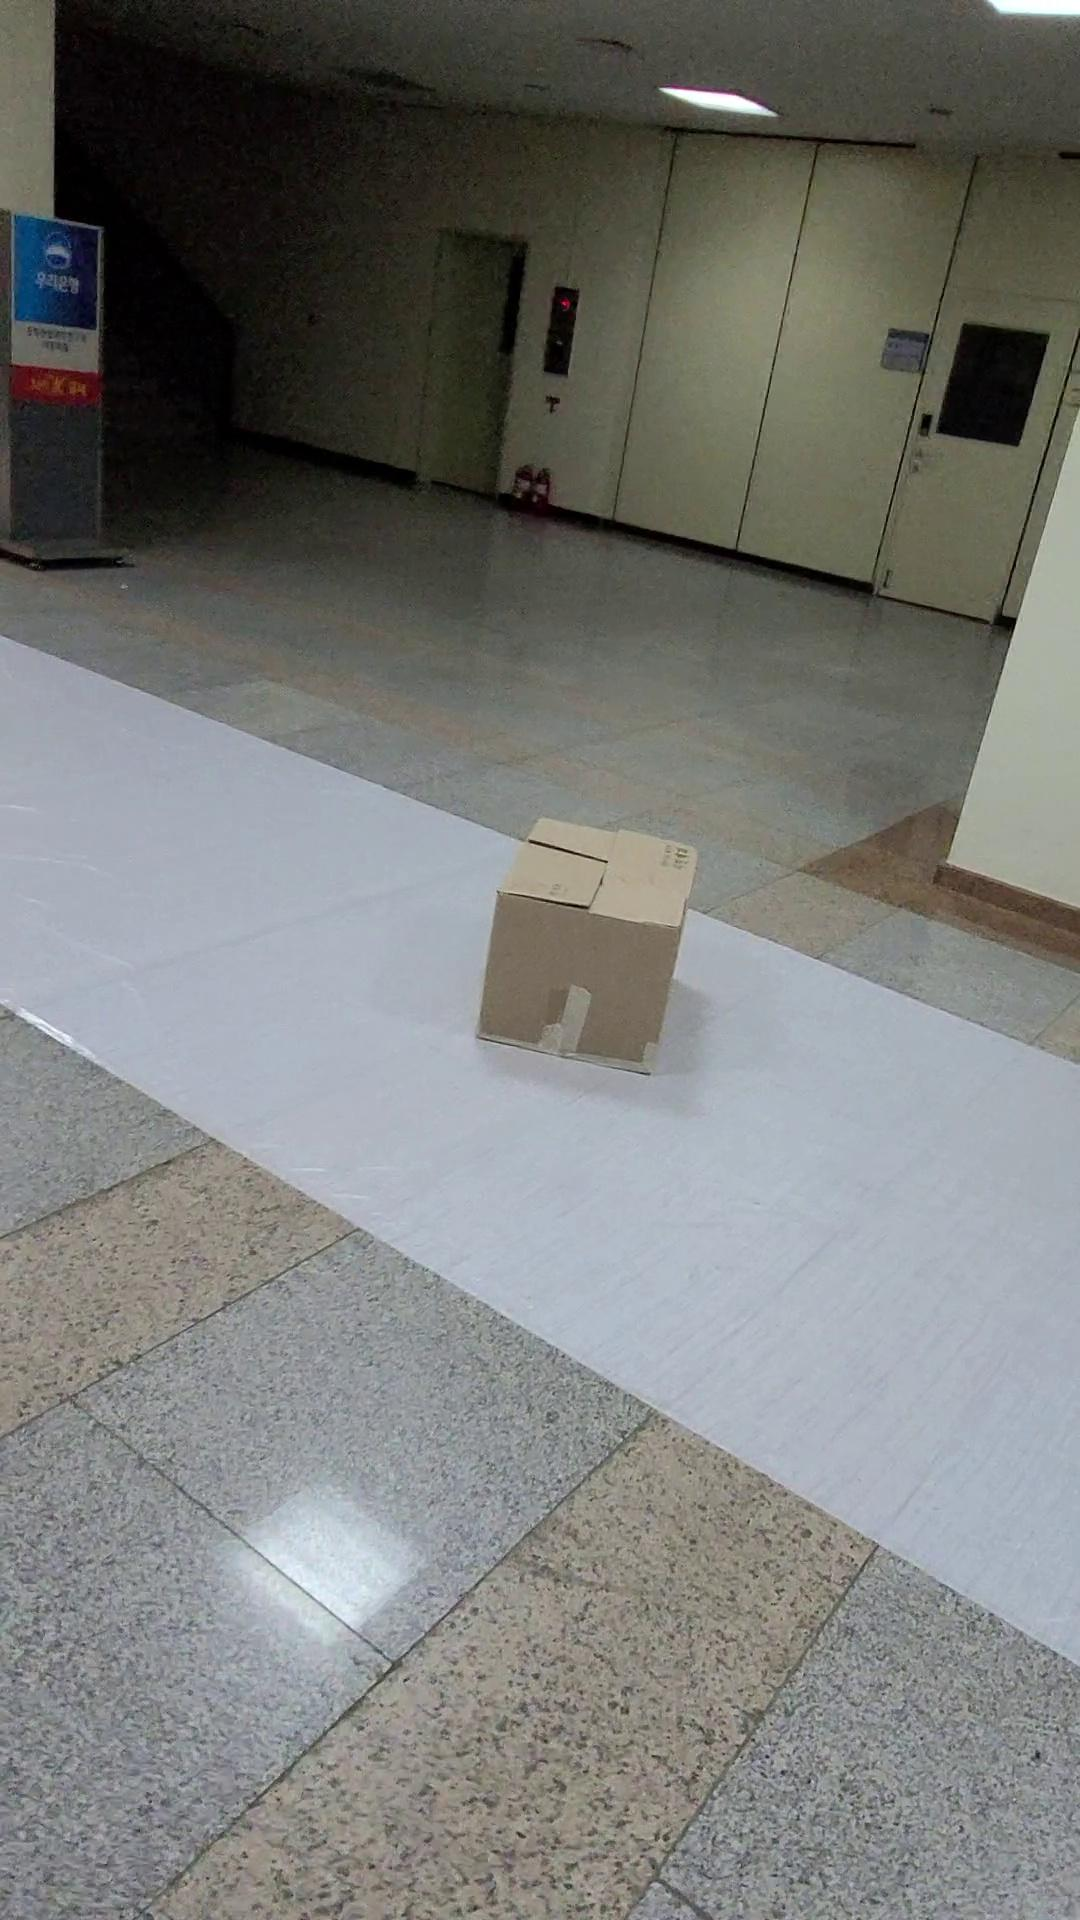Box: (431, 773, 727, 1118)
